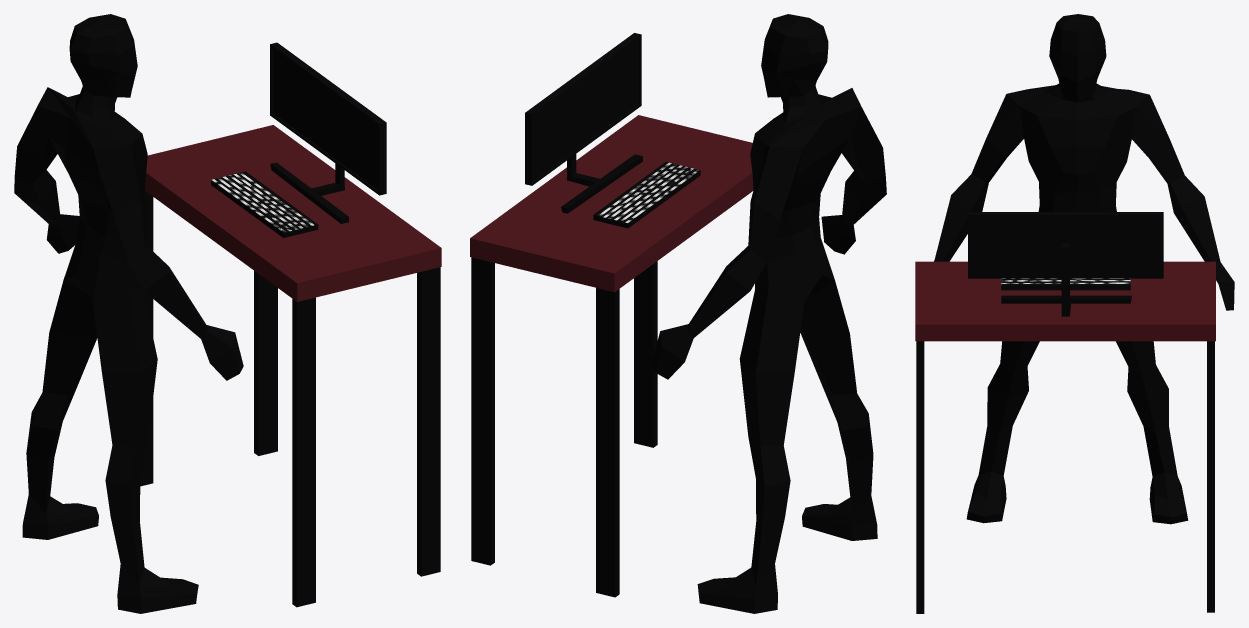
Rendered from blenderdude.glb.
The picture shows the model from 3 angles, left to right: view 1: azimuth 30°, elevation 25°; view 2: azimuth 150°, elevation 25°; view 3: azimuth 270°, elevation 25°; orthographic projection. The views are drawn at different scales.
Parts seen in each view (by area): view 1: BASE_Low Poly Man, Cube.004, Cube.007, Cube.002, Cube.001, Cube, Cube.005, Cube.003; view 2: BASE_Low Poly Man, Cube.004, Cube.007, Cube.003, Cube, Cube.001, Cube.005; view 3: BASE_Low Poly Man, Cube.004, Cube.007, Cube.001, Cube, Cube.005.
Boxes of the visible parts, x1,y1,x2,y2 form: BASE_Low Poly Man: (14, 14, 243, 613); Cube.004: (145, 125, 441, 301); Cube.007: (270, 42, 386, 223); Cube.002: (292, 297, 315, 607); Cube.001: (417, 267, 440, 576); Cube: (254, 271, 277, 455); Cube.005: (211, 171, 318, 237); Cube.003: (140, 191, 153, 486); BASE_Low Poly Man: (651, 14, 886, 613); Cube.004: (470, 115, 753, 292); Cube.007: (525, 33, 642, 213); Cube.003: (596, 288, 619, 597); Cube: (471, 257, 494, 565); Cube.001: (634, 261, 657, 447); Cube.005: (593, 162, 700, 228); BASE_Low Poly Man: (934, 14, 1234, 524); Cube.004: (915, 261, 1215, 341); Cube.007: (968, 212, 1163, 316); Cube.001: (916, 341, 924, 613); Cube: (1207, 341, 1214, 612); Cube.005: (1001, 278, 1130, 290).
Size of what is drawn, in the model's own units: 3.15 by 5.75 by 3.41.
Materials: 4 (1 with a texture image).
